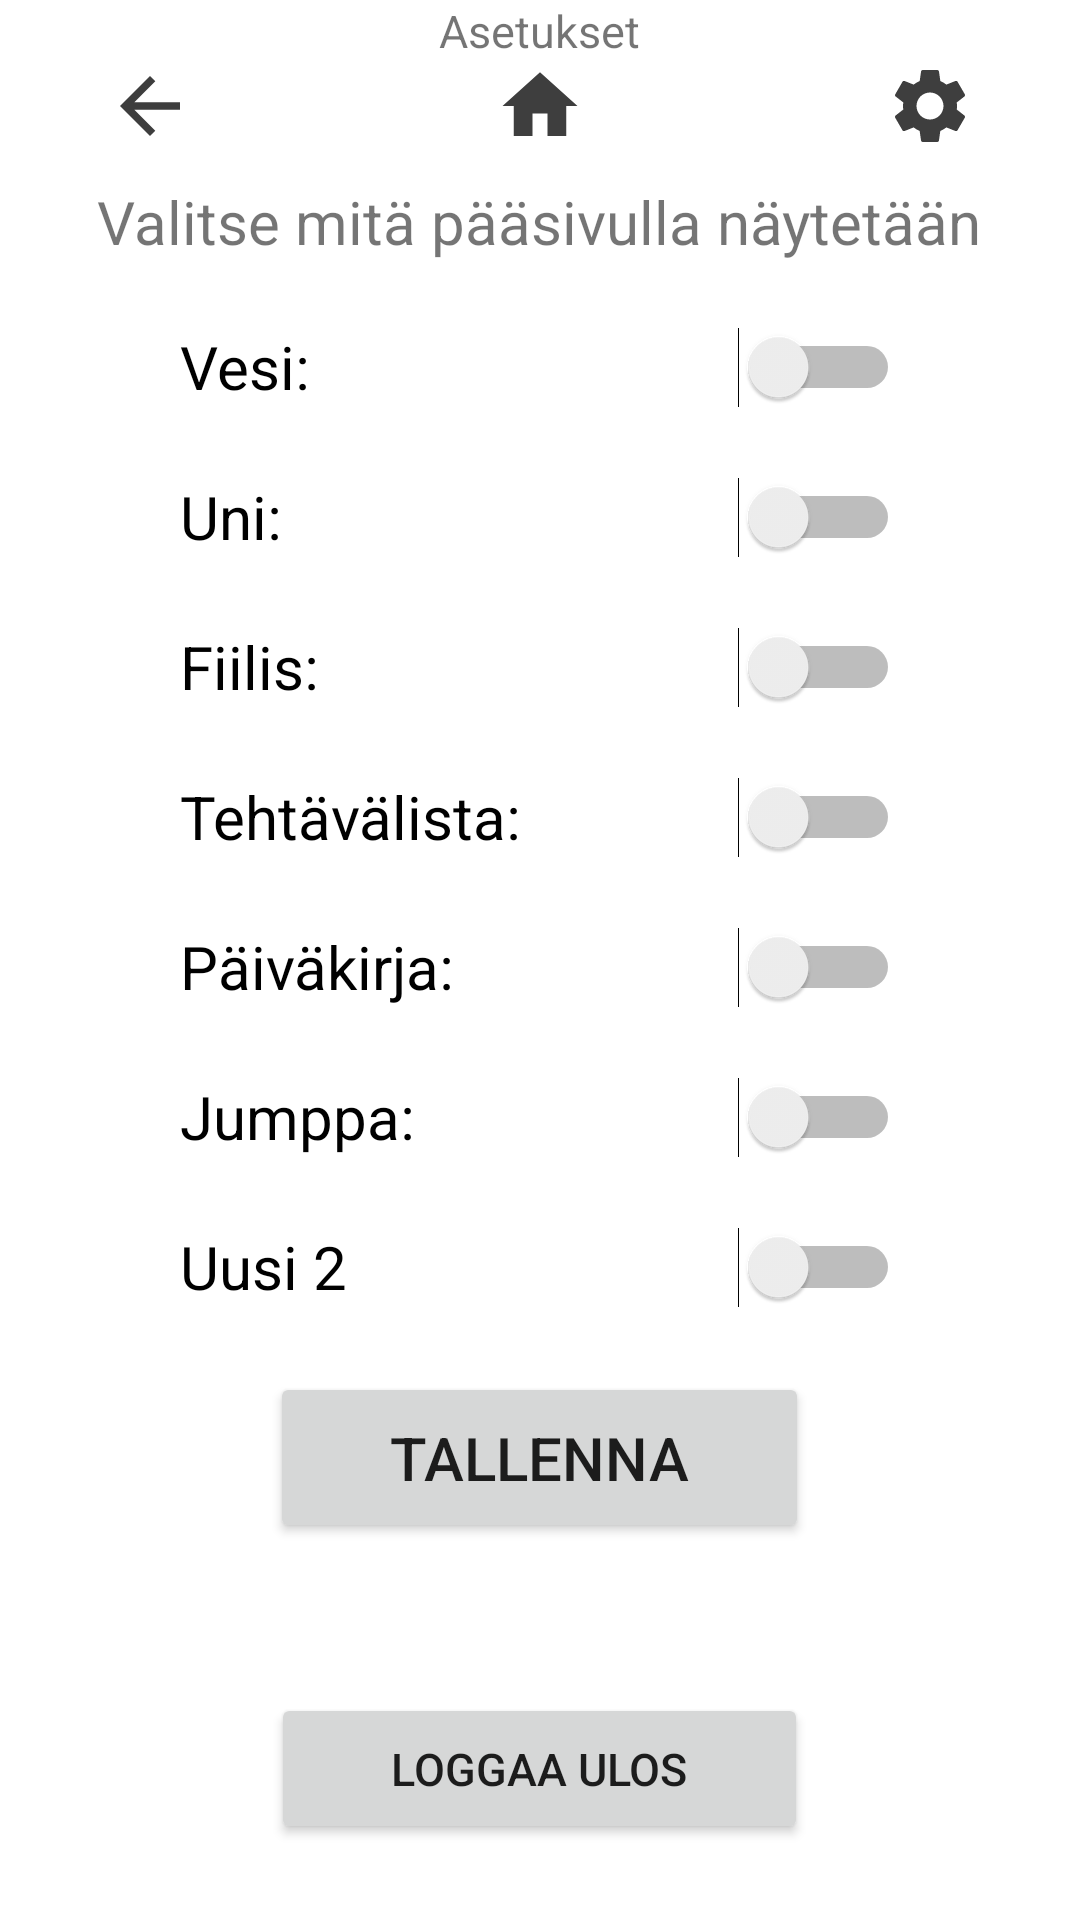

Icons on this 1080 × 1920 Android screen, each with the point to tap as (x,y):
Asetukset: (930,106)
Koti: (540,104)
Takaisin: (150,106)
